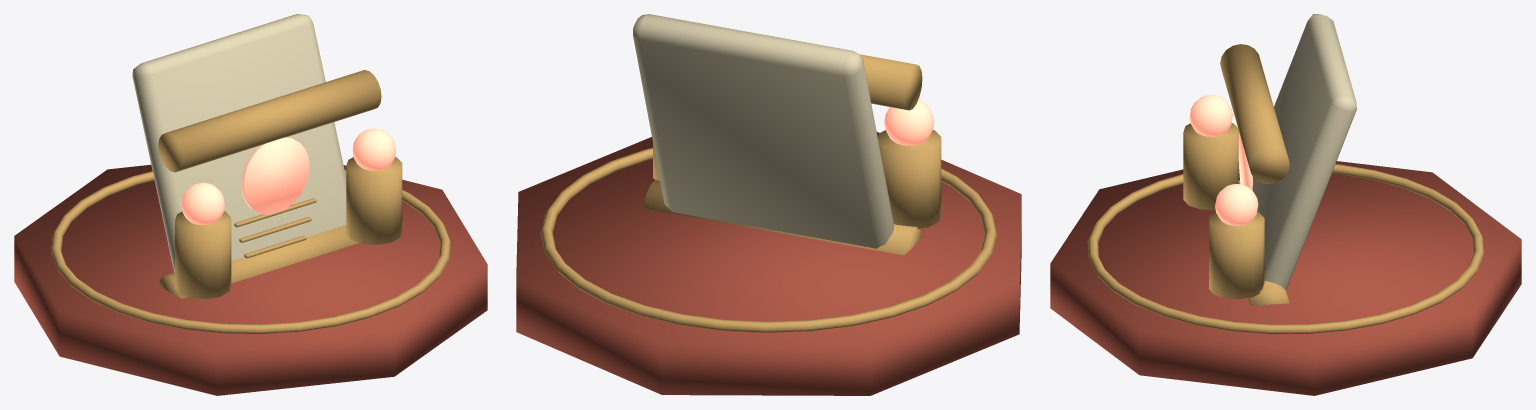
3 renders of one model, left to right at view 1: azimuth 30°, elevation 25°; view 2: azimuth 150°, elevation 25°; view 3: azimuth 270°, elevation 25°, orthographic. The views are drawn at different scales.
Parts seen in each view (by area): view 1: Hexagonal plinth, Parchment, Binding.001, Inlaid rim, Tactical token.001, Tactical token, 3B embossed seal, Binding, Tactical head, Tactical head.001; view 2: Hexagonal plinth, Parchment, Inlaid rim, Tactical token, Binding.001, Binding, Tactical head; view 3: Hexagonal plinth, Parchment, Inlaid rim, Binding.001, Tactical token.001, Tactical token, Tactical head, Tactical head.001, Binding, 3B embossed seal.
Boxes of the visible parts, x1,y1,x2,y2 form: Hexagonal plinth: (14,164,487,395); Parchment: (132,14,346,272); Binding.001: (158,70,381,172); Inlaid rim: (51,170,450,333); Tactical token.001: (346,157,402,244); Tactical token: (175,211,231,299); 3B embossed seal: (241,137,309,214); Binding: (158,225,359,298); Tactical head: (181,182,224,224); Tactical head.001: (352,128,395,170); Hexagonal plinth: (516,132,1021,395); Parchment: (633,14,893,248); Inlaid rim: (540,148,997,332); Tactical token: (878,130,941,229); Binding.001: (860,54,922,110); Binding: (644,180,921,255); Tactical head: (884,99,934,145); Hexagonal plinth: (1050,161,1521,395); Parchment: (1252,14,1356,289); Inlaid rim: (1087,164,1484,334); Binding.001: (1220,44,1289,184); Tactical token.001: (1209,212,1264,299); Tactical token: (1183,123,1239,210); Tactical head: (1189,95,1232,136); Tactical head.001: (1215,184,1258,225); Binding: (1248,281,1289,305); 3B embossed seal: (1238,133,1252,190).
Size of the model in its own units: 1.51 by 0.8899 by 1.51.
